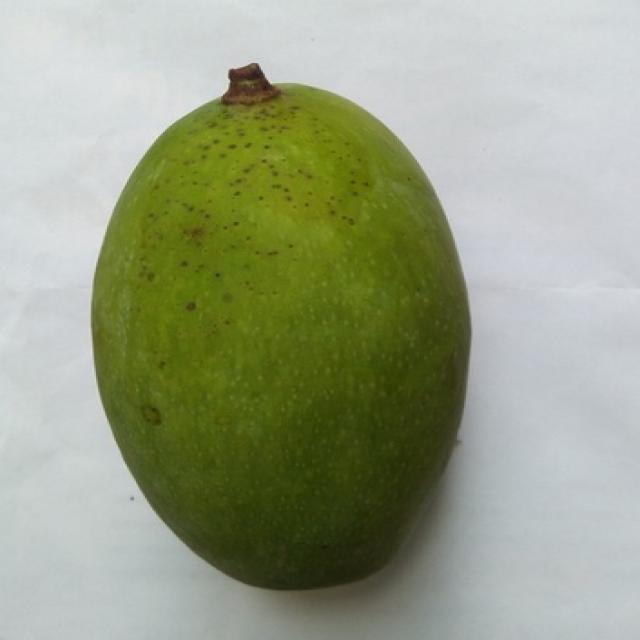Mango: (92, 84, 468, 588)
